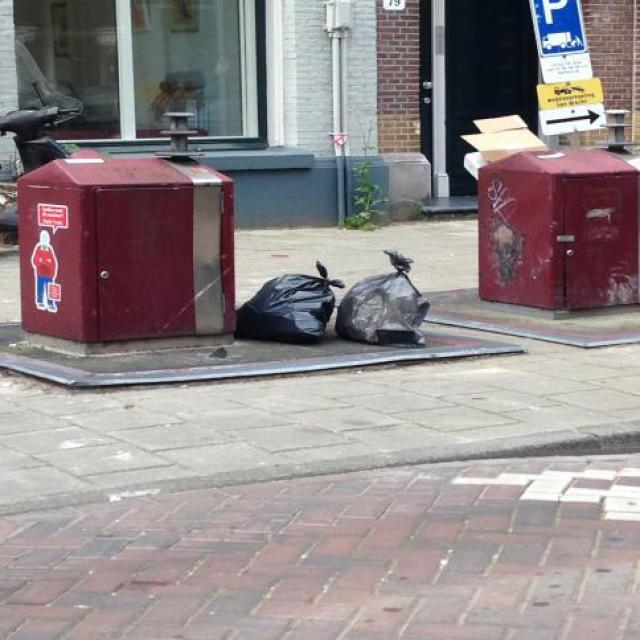Anorganik: (236, 242, 337, 359), (332, 244, 436, 354)
